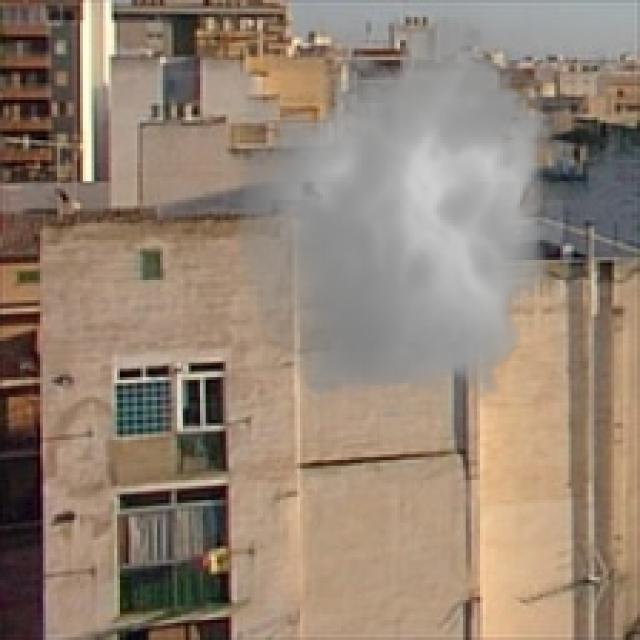Smoke: (225, 2, 578, 418)
